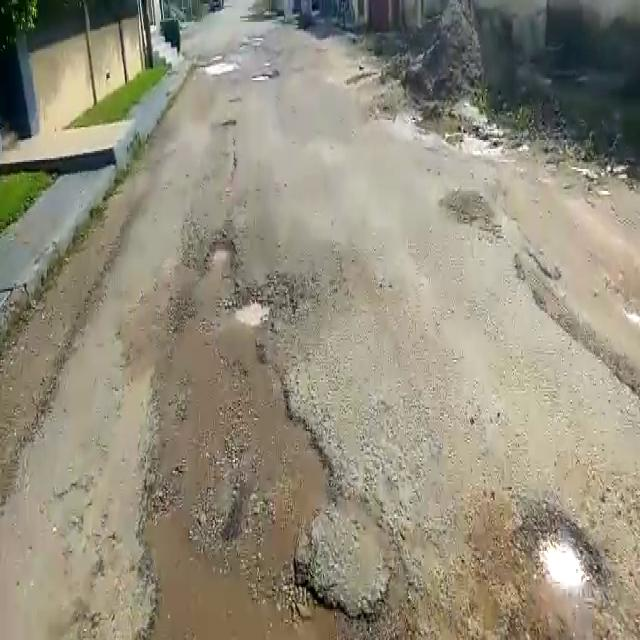Pothole: (516, 502, 612, 608), (232, 280, 286, 334), (205, 232, 240, 272)
